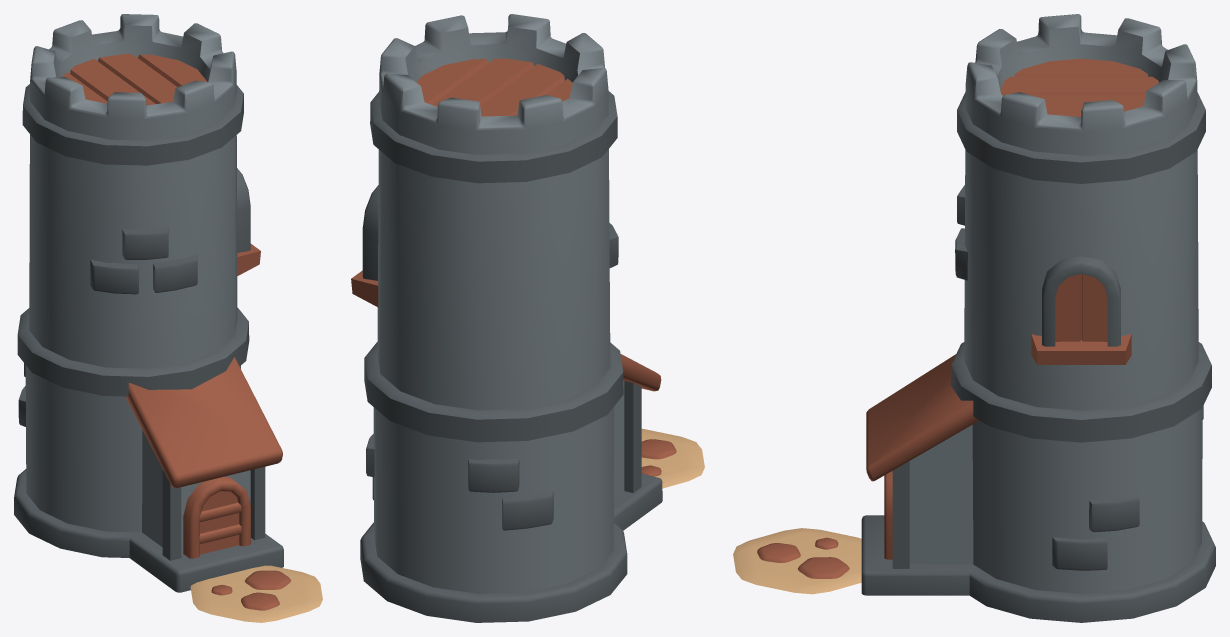
Rendered from watchtower.glb.
3 views of the same model, side by side, from view 1: azimuth 30°, elevation 25°; view 2: azimuth 150°, elevation 25°; view 3: azimuth 270°, elevation 25° (orthographic). The views are drawn at different scales.
Parts seen in each view (by area): view 1: watchtower; view 2: watchtower; view 3: watchtower.
Part boxes in pixels (bbox=[...]): watchtower: bbox=[14, 14, 322, 622]; watchtower: bbox=[351, 14, 704, 622]; watchtower: bbox=[733, 14, 1215, 622].
Size of the model in its own units: 0.9707 by 1.98 by 1.71.
